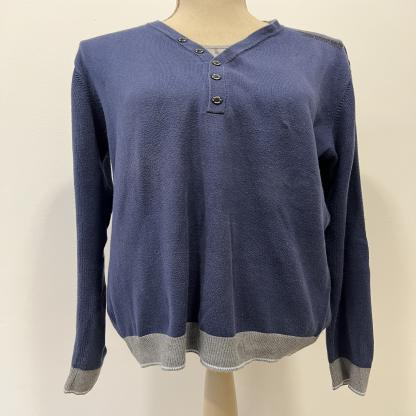stain: (222, 48, 247, 70), (212, 48, 221, 57)
